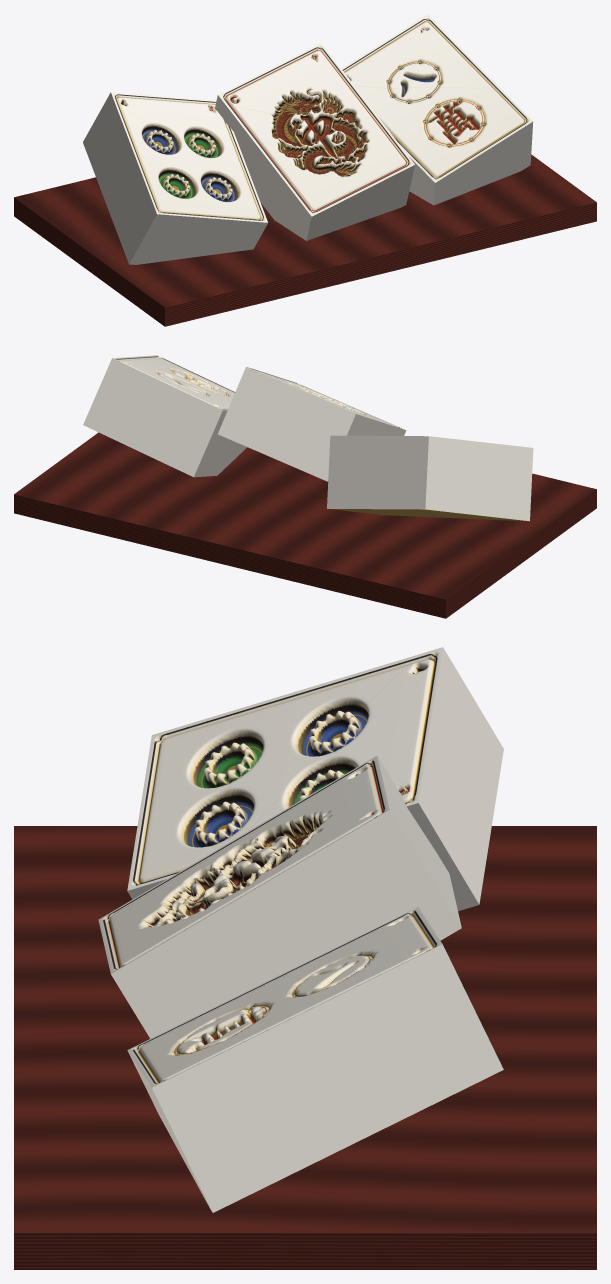
File: tile_carved_intaglio_showcase.glb
3 renders of one model, top to bottom at view 1: azimuth 30°, elevation 25°; view 2: azimuth 150°, elevation 25°; view 3: azimuth 270°, elevation 25°, orthographic. The views are drawn at different scales.
Parts seen in each view (by area): view 1: Carved_Showcase_Plinth, Carved_Tile_dragon_red, Carved_Tile_dots_4, Carved_Tile_char_8; view 2: Carved_Showcase_Plinth, Carved_Tile_dots_4, Carved_Tile_char_8, Carved_Tile_dragon_red; view 3: Carved_Showcase_Plinth, Carved_Tile_char_8, Carved_Tile_dots_4, Carved_Tile_dragon_red.
Boxes of the visible parts, x1,y1,x2,y2 form: Carved_Showcase_Plinth: [14, 154, 596, 326]; Carved_Tile_dragon_red: [215, 43, 414, 240]; Carved_Tile_dots_4: [83, 92, 267, 264]; Carved_Tile_char_8: [341, 14, 533, 205]; Carved_Showcase_Plinth: [14, 432, 596, 618]; Carved_Tile_dots_4: [327, 435, 533, 521]; Carved_Tile_char_8: [83, 355, 247, 477]; Carved_Tile_dragon_red: [218, 366, 406, 481]; Carved_Showcase_Plinth: [14, 826, 596, 1269]; Carved_Tile_char_8: [127, 907, 503, 1212]; Carved_Tile_dots_4: [127, 647, 503, 911]; Carved_Tile_dragon_red: [98, 755, 461, 1038].
Bounding box in the file's own units: 3.8 × 1.35 × 2.3.
10 materials, 10 textured.
